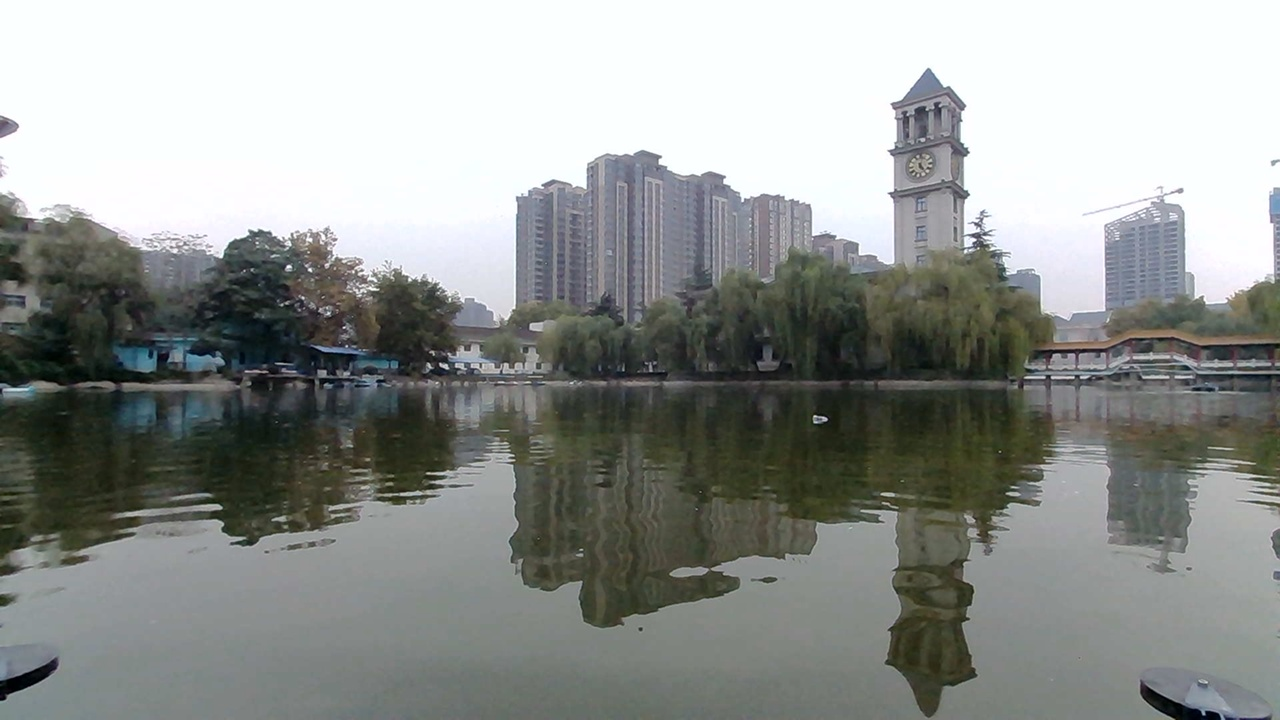bottle: (809, 401, 848, 431)
